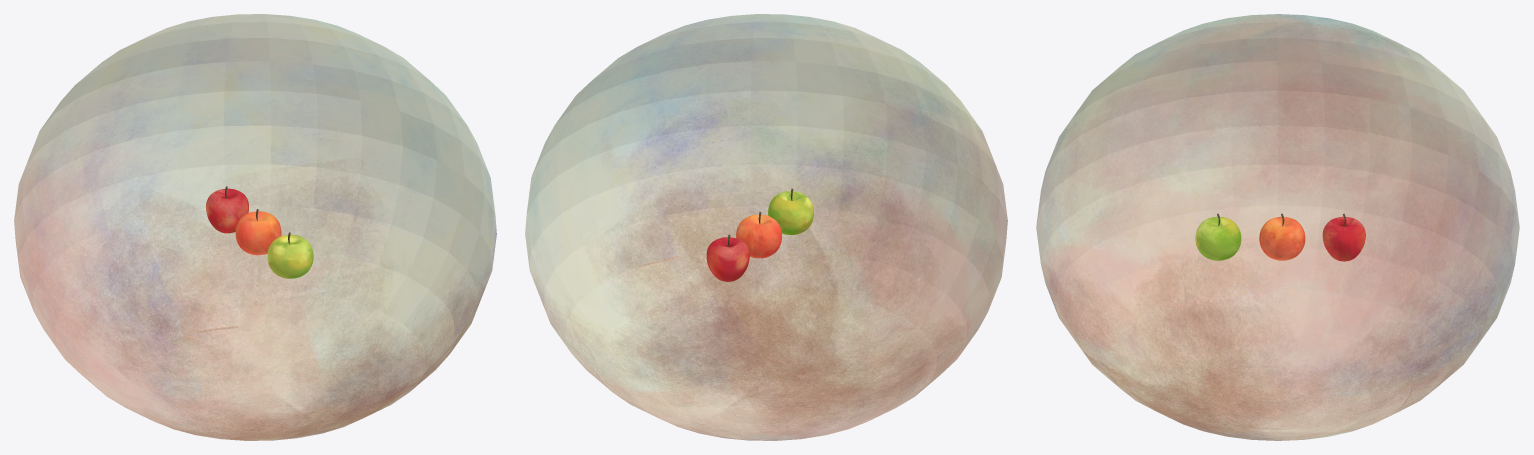
File: Apples.glb
The picture shows the model from 3 angles, left to right: view 1: azimuth 30°, elevation 25°; view 2: azimuth 150°, elevation 25°; view 3: azimuth 270°, elevation 25°; orthographic projection.
Visible parts, largest first — view 1: Bg, Icosphere.005, Icosphere, Icosphere.009; view 2: Bg, Icosphere.009, Icosphere.005, Icosphere; view 3: Bg, Icosphere.005, Icosphere, Icosphere.009.
Boxes of the visible parts, x1=… form: Bg: x1=14, y1=14, x2=496, y2=440; Icosphere.005: x1=267, y1=234, x2=313, y2=278; Icosphere: x1=235, y1=211, x2=281, y2=255; Icosphere.009: x1=205, y1=188, x2=248, y2=233; Bg: x1=525, y1=14, x2=1007, y2=440; Icosphere.009: x1=706, y1=237, x2=749, y2=281; Icosphere.005: x1=768, y1=191, x2=813, y2=234; Icosphere: x1=736, y1=214, x2=781, y2=258; Bg: x1=1036, y1=14, x2=1519, y2=440; Icosphere.005: x1=1195, y1=216, x2=1241, y2=260; Icosphere: x1=1259, y1=216, x2=1305, y2=260; Icosphere.009: x1=1322, y1=216, x2=1365, y2=261.
Bounding box in the file's own units: 19.36 × 16.65 × 19.36.
Materials: 5 (5 with a texture image).
